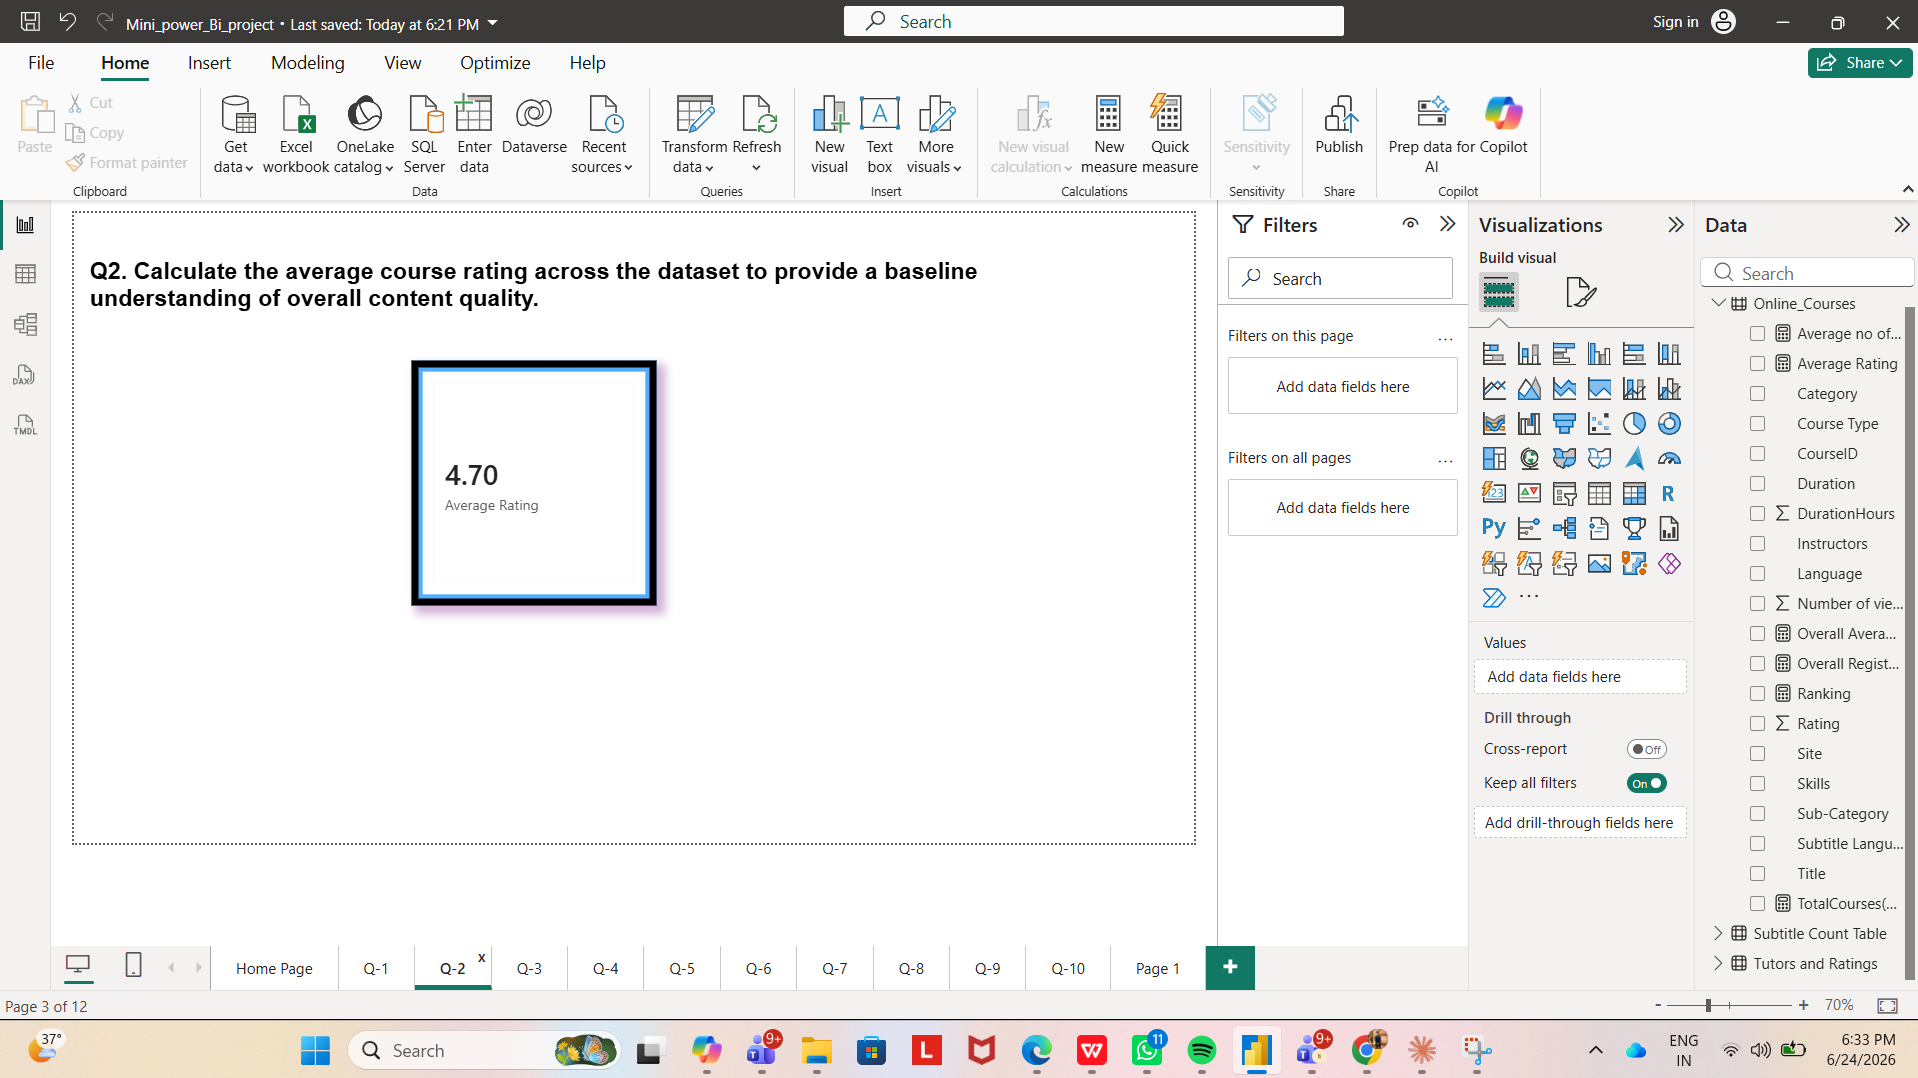

Layout of this report page (visuals, bound fields, positions):
{"tool":"powerbi","page":{"name":"Q-2","canvas":[1280,720],"ordinal":2},"visuals":[{"type":"cardVisual","fields":{"Data":["Online_Courses.AverageCourse Rating"]},"box":[385,168.3,280,280],"z":0},{"type":"textbox","box":[12.3,46.7,1215.8,83.7],"z":1000}]}

Visuals, with their boxes on the page's 1280x720 design canvas (x1, y1, x2, y2). These are canvas units, not pixel positions in the 1918x1078 screenshot, which may show the page scaled, cropped or inside an application window:
cardVisual - Online_Courses.AverageCourse Rating: <box>385,168,665,448</box>
textbox: <box>12,47,1228,130</box>
